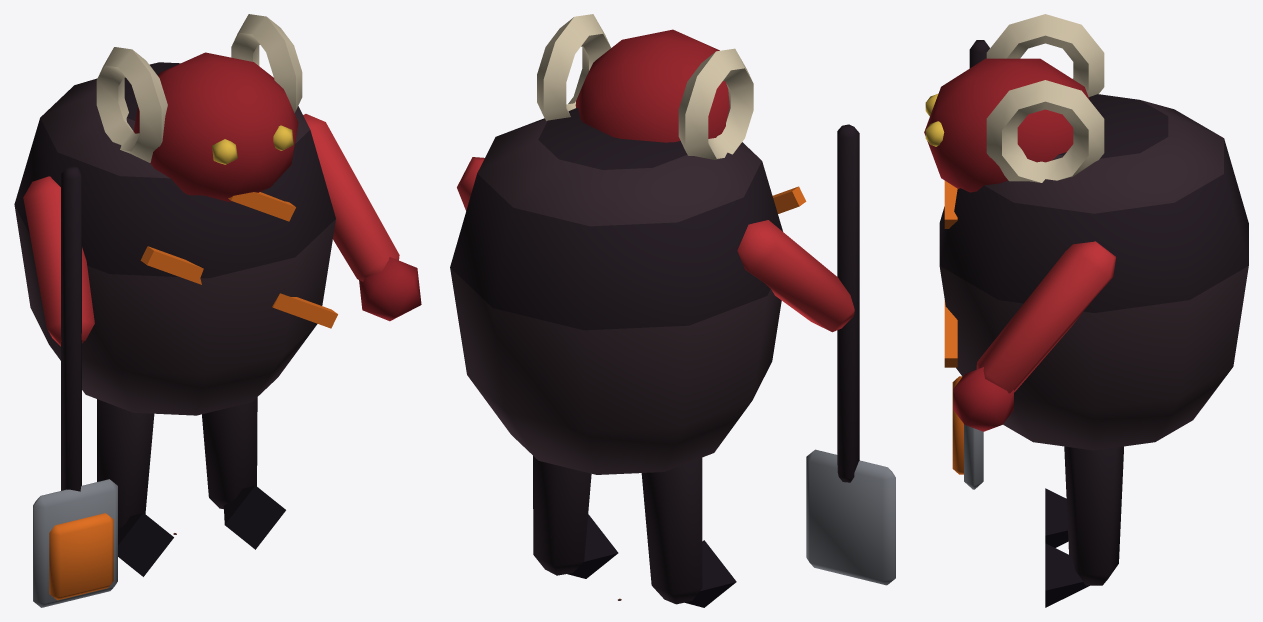
Rendered from e_daemonen_hoellengraeber.glb.
The picture shows the model from 3 angles, left to right: view 1: azimuth 30°, elevation 25°; view 2: azimuth 150°, elevation 25°; view 3: azimuth 270°, elevation 25°; orthographic projection. The views are drawn at different scales.
Parts seen in each view (by area): view 1: body; view 2: body; view 3: body.
Boxes of the visible parts, bbox=[...] form: body: bbox=[14, 14, 421, 607]; body: bbox=[450, 14, 895, 607]; body: bbox=[924, 14, 1248, 607].
Bounding box in the file's own units: 1.39 × 1.81 × 0.9985.
